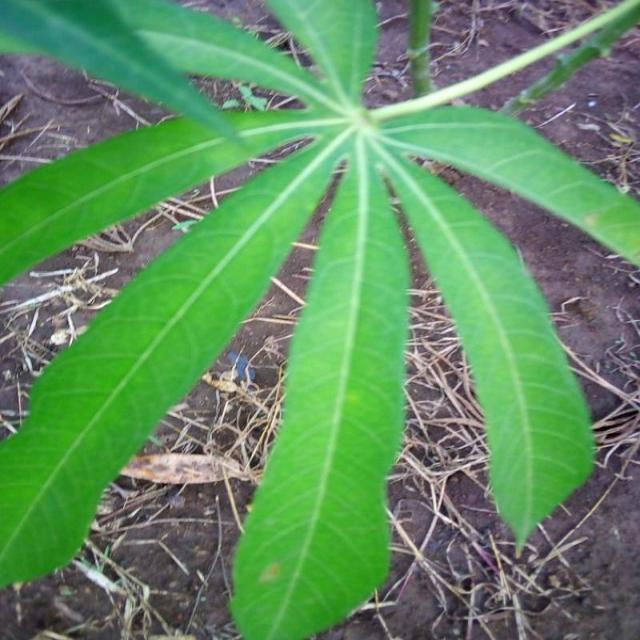cassava leaf: (0, 1, 638, 638), (228, 135, 412, 639), (376, 138, 597, 556)
